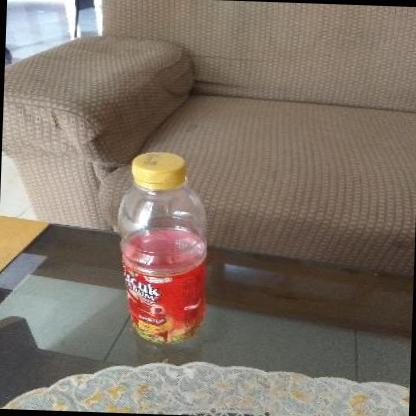plastic_bottles: (112, 149, 216, 353)
